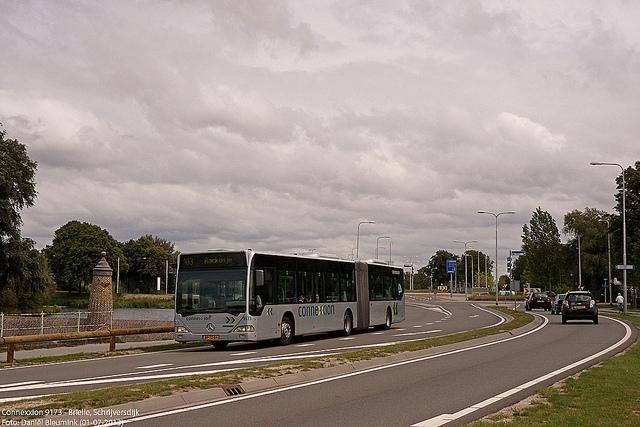bus: (172, 248, 406, 348)
car: (558, 288, 598, 325), (525, 292, 551, 311), (550, 294, 566, 315), (544, 291, 556, 301)
